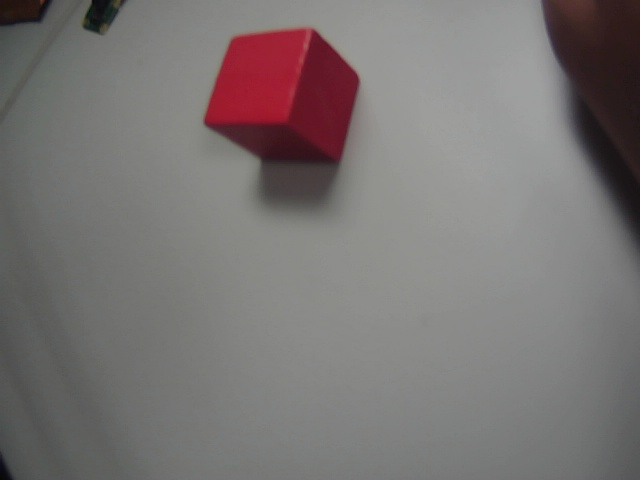redbox: (199, 26, 364, 175)
